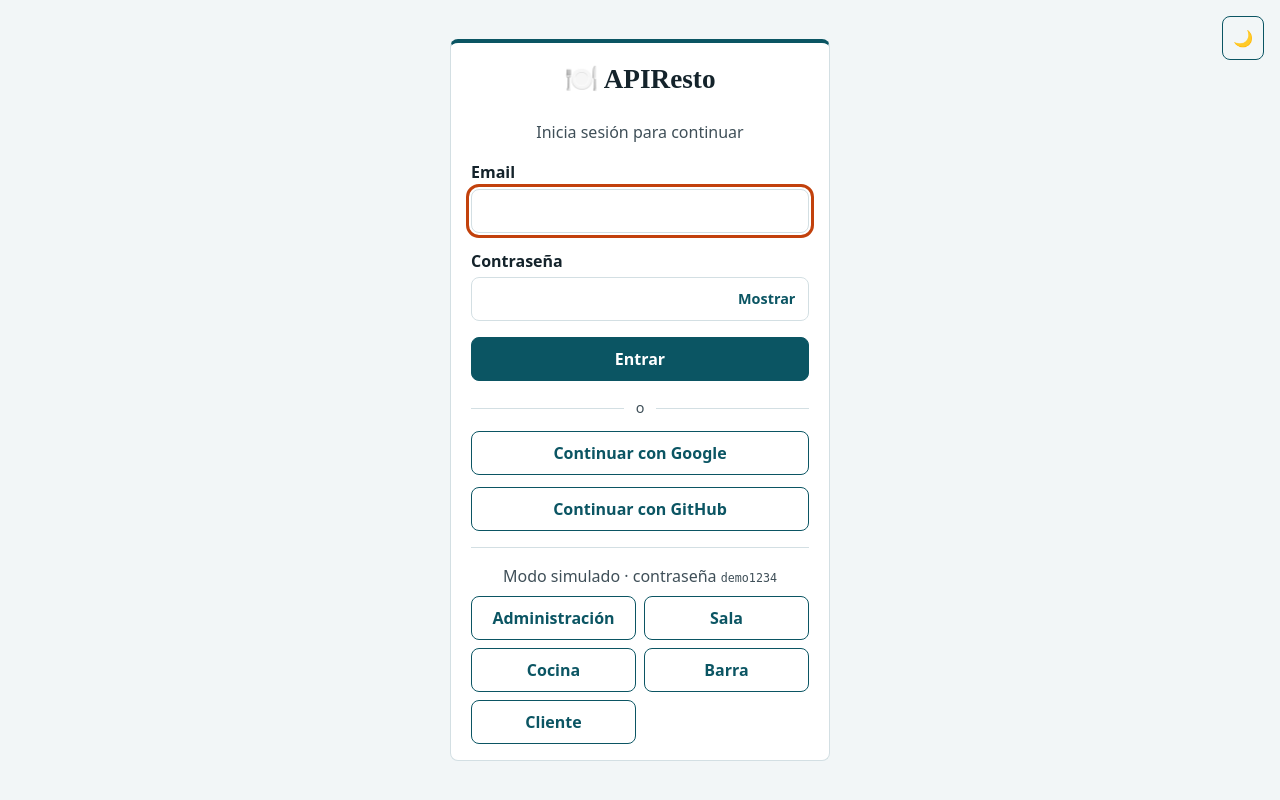
Test: login y navegación por rol (modo simulado) › al iniciar sesión, admin@restoapi.dev entra en Inicio (Hola, Admin Demo)
Type "admin@restoapi.dev" into the field labelled "Email" at (640,211), box x1=471 y1=189 x2=809 y2=233
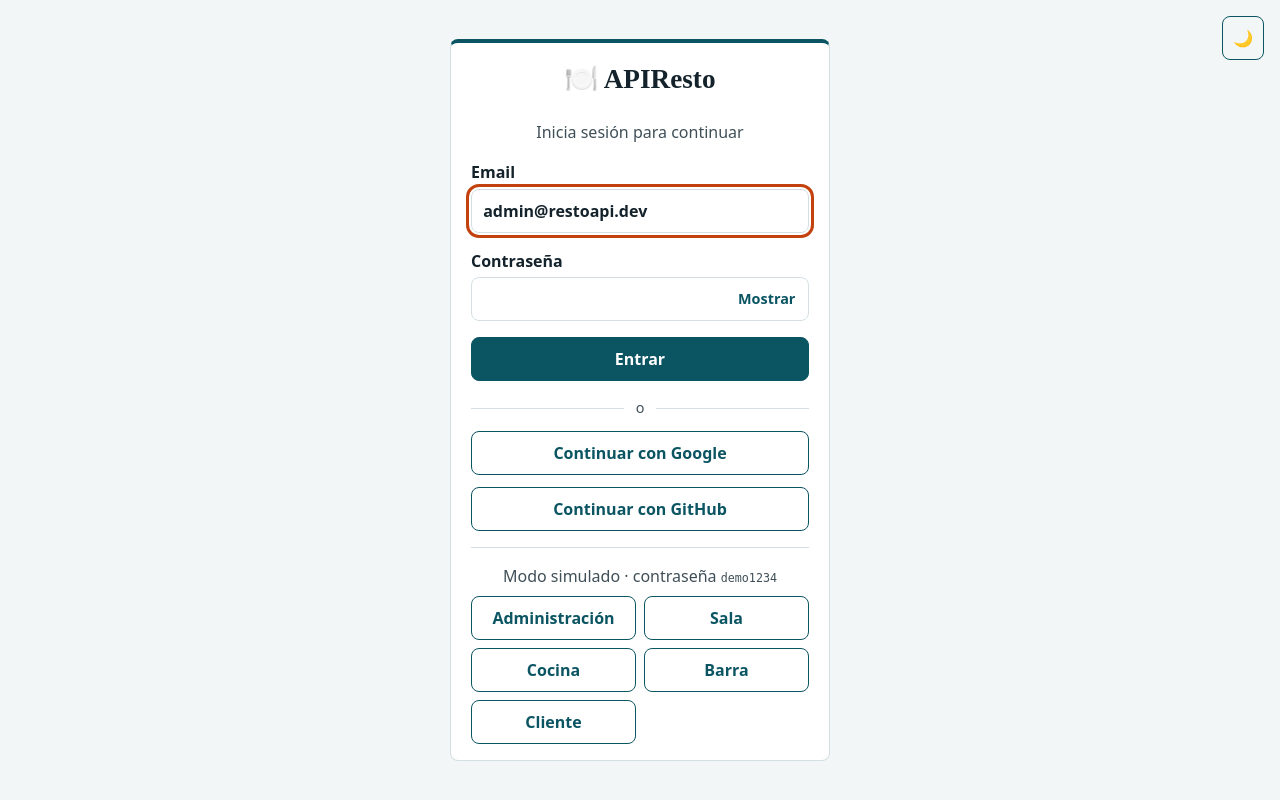
Type "demo1234" into the password field labelled "Contraseña" at (640,299), box x1=471 y1=277 x2=809 y2=321
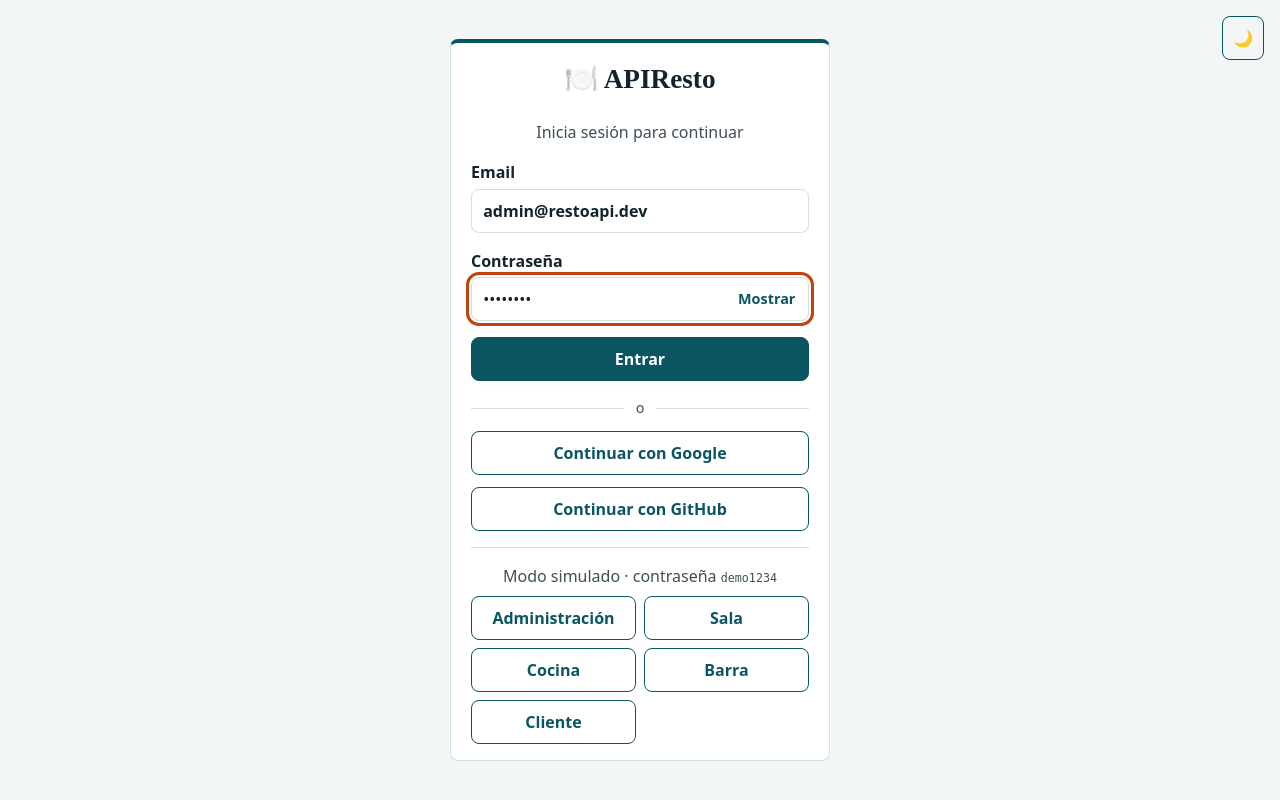
Click the button "Entrar" at (640,359), box x1=471 y1=337 x2=809 y2=381
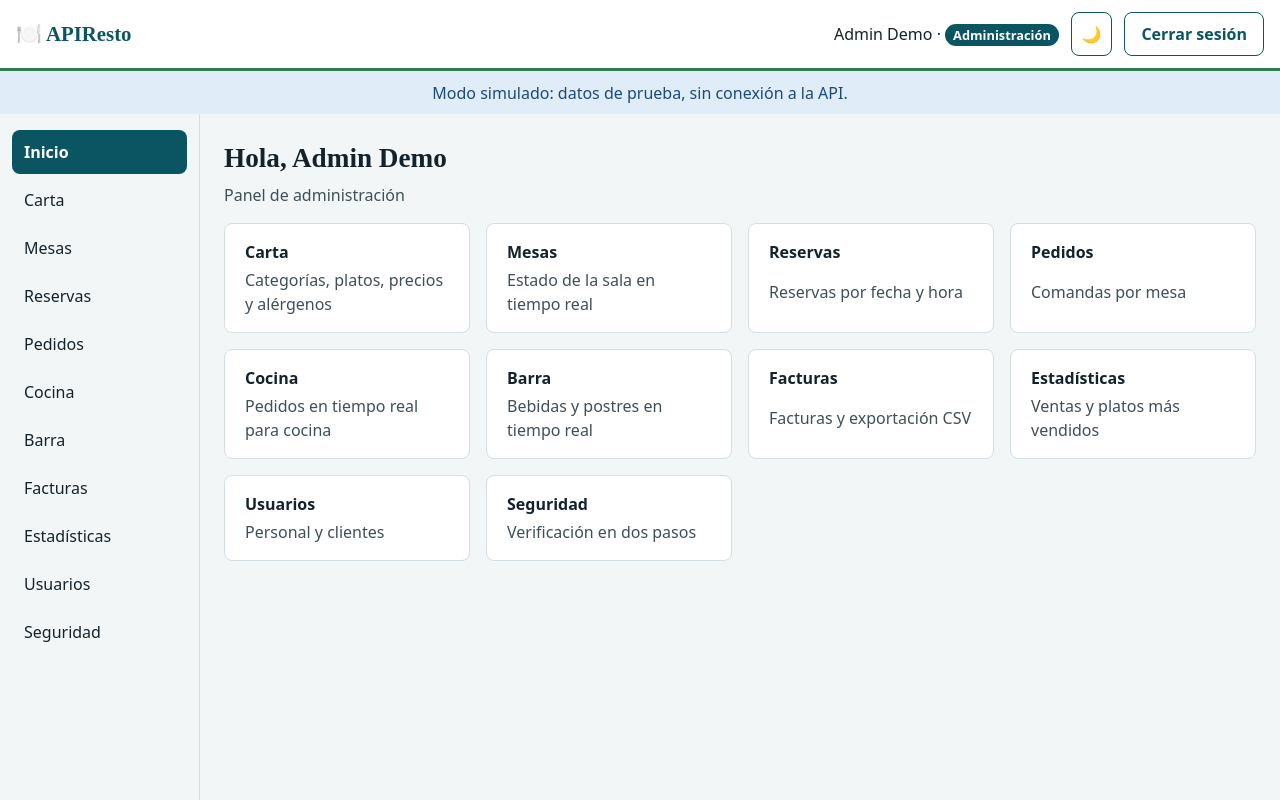
Now the heading "Hola, Admin Demo" is shown, box x1=224 y1=143 x2=447 y2=173
